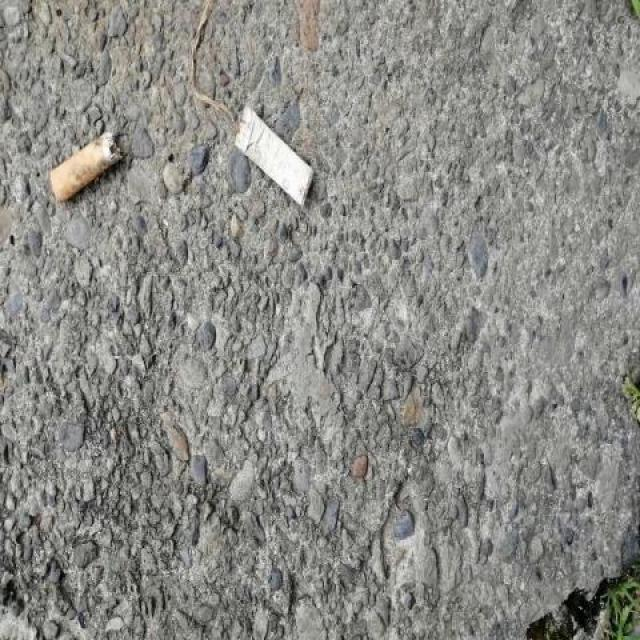non-organic waste: (228, 98, 316, 210), (46, 126, 125, 206)
